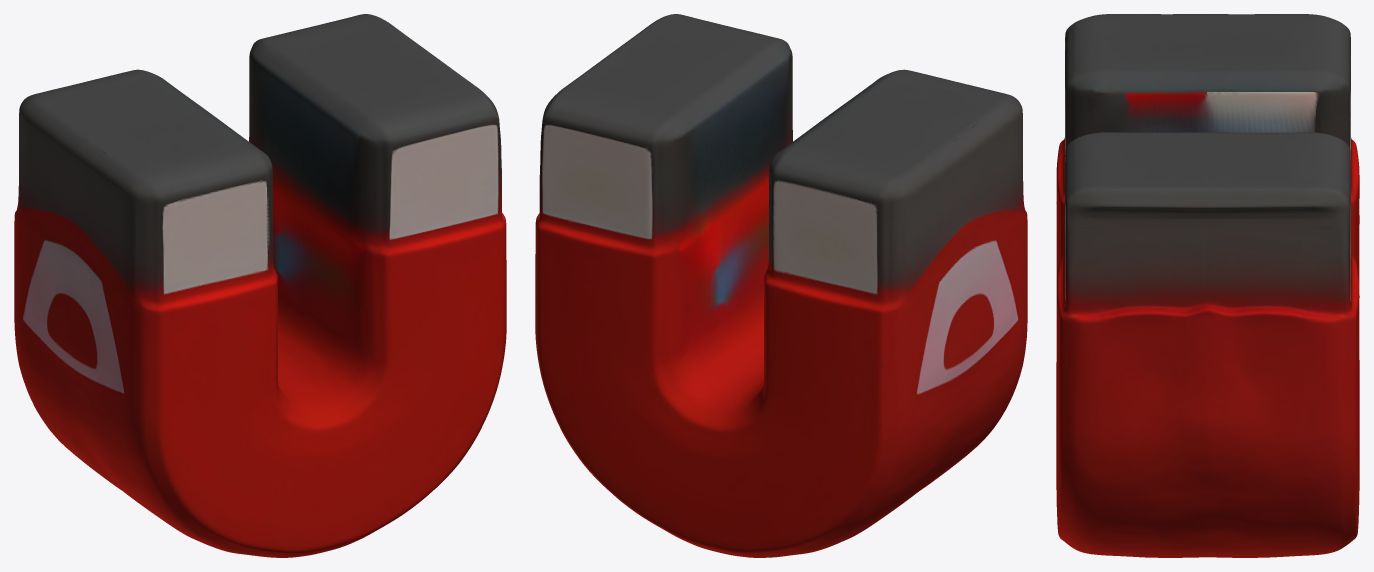
Rendered from magnet.glb.
The picture shows the model from 3 angles, left to right: view 1: azimuth 30°, elevation 25°; view 2: azimuth 150°, elevation 25°; view 3: azimuth 270°, elevation 25°; orthographic projection. The views are drawn at different scales.
Parts seen in each view (by area): view 1: tripo_node_01e97b37-8fa3-4961-b802-67c931f550a5; view 2: tripo_node_01e97b37-8fa3-4961-b802-67c931f550a5; view 3: tripo_node_01e97b37-8fa3-4961-b802-67c931f550a5.
Part boxes in pixels (x1,y1,x2,y2): tripo_node_01e97b37-8fa3-4961-b802-67c931f550a5: [14, 14, 506, 557]; tripo_node_01e97b37-8fa3-4961-b802-67c931f550a5: [535, 14, 1027, 557]; tripo_node_01e97b37-8fa3-4961-b802-67c931f550a5: [1056, 14, 1359, 557].
Size of the model in its own units: 1.85 by 1.94 by 1.23.
Materials: 1 (1 with a texture image).
